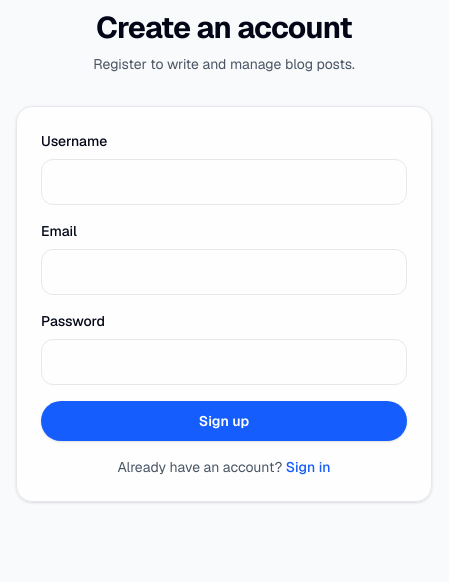
Test case: RegisterPage › shows an error when registration fails
The image size is (449, 582).
Type "rohit" into the 1st field named "username". click: (224, 182)
box: [41, 159, 407, 205]
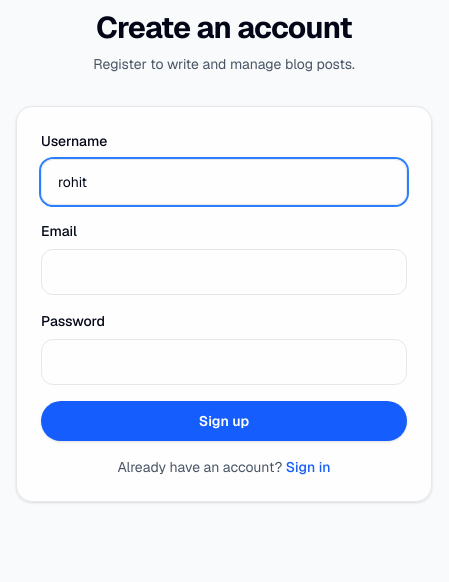
Type "rohit@example.com" into the 2nd field named "email". click: (224, 272)
box: [41, 249, 407, 295]
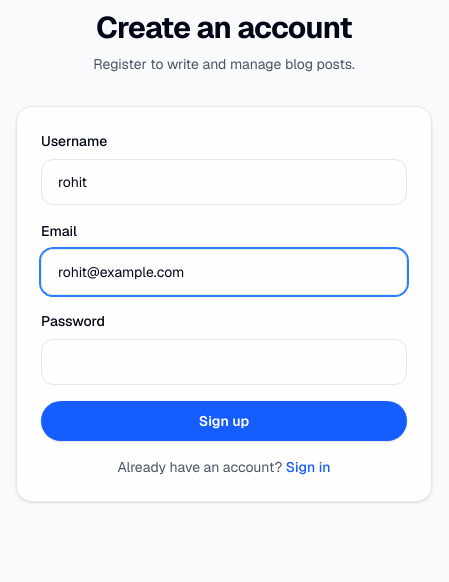
Type "secret123" into the password field named "password". click: (224, 362)
box: [41, 339, 407, 385]
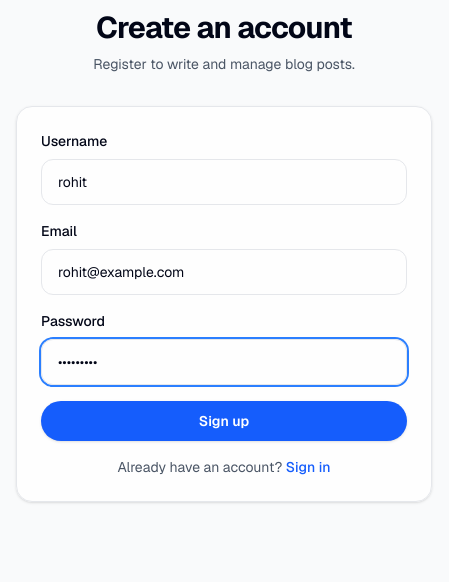
Click the button named "sign up". click: (224, 421)
box: [41, 401, 407, 441]
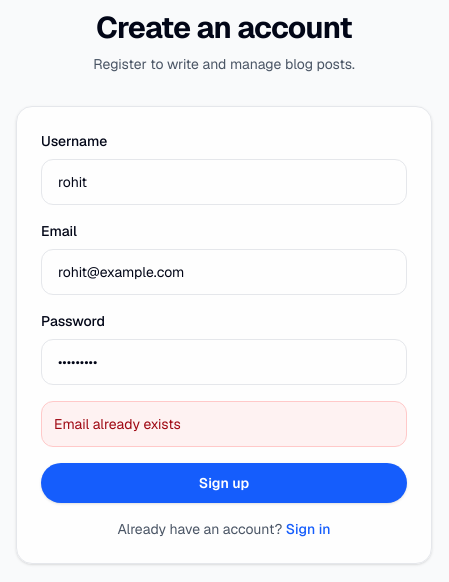
Check: the 5th text "Email already exists" is shown, box [54, 415, 181, 433]
